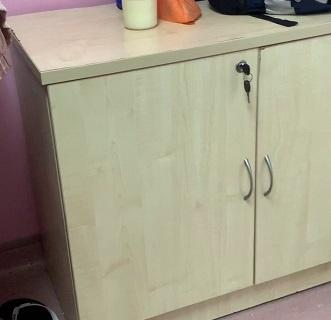cabinet_door: (65, 57, 257, 300), (258, 47, 331, 266)
handle: (243, 156, 256, 203), (263, 152, 274, 202)
